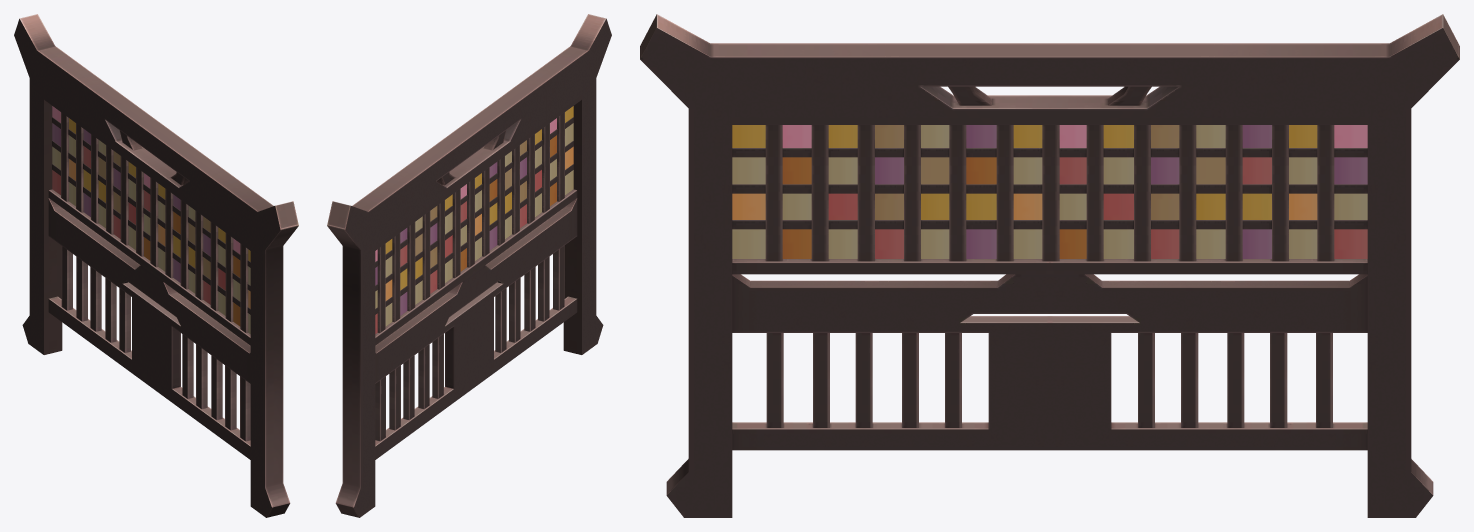
File: my_newyearpath_01_partition.glb
3 views of the same model, side by side, from view 1: azimuth 30°, elevation 25°; view 2: azimuth 150°, elevation 25°; view 3: azimuth 270°, elevation 25° (orthographic). The views are drawn at different scales.
Parts seen in each view (by area): view 1: my_newyearpath_01_partition; view 2: my_newyearpath_01_partition; view 3: my_newyearpath_01_partition.
Part boxes in pixels (box(x1,y1,x2,y2)): my_newyearpath_01_partition: box(14, 14, 298, 517); my_newyearpath_01_partition: box(327, 14, 611, 517); my_newyearpath_01_partition: box(640, 14, 1459, 517).
Bounding box in the file's own units: 0.00041 × 0.0068 × 0.0103.
Materials: 1 (1 with a texture image).
